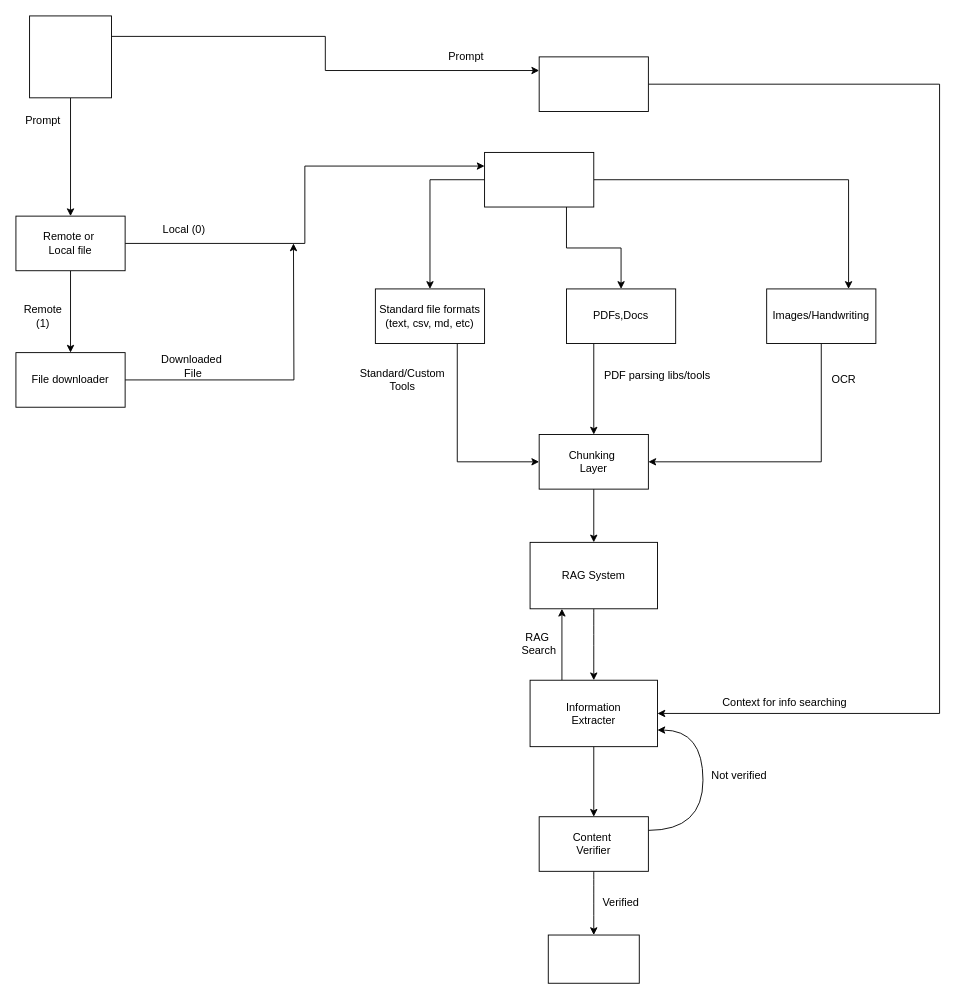
This 963x999 diagram has some shape labels left out. The shapes that lost their labels are listed below. From the top down, each one's centre as x and y in pixels, then its label:
At (70,56): "USER".
At (593,83): "description extraction".
At (539,179): "Metadata extracter".
At (593,958): "output".
